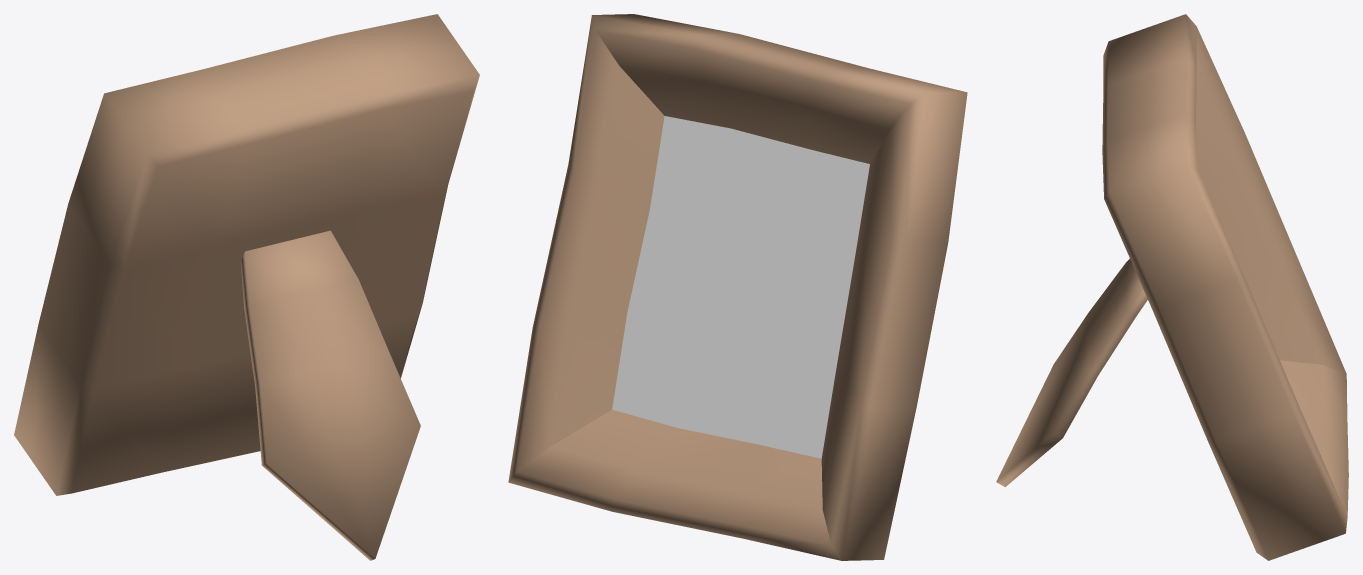
The model's file is props_photo_frame.fbx.
The picture shows the model from 3 angles, left to right: view 1: azimuth 30°, elevation 25°; view 2: azimuth 150°, elevation 25°; view 3: azimuth 270°, elevation 25°; orthographic projection. The views are drawn at different scales.
Visible parts, largest first — view 1: photo; view 2: photo; view 3: photo.
Boxes of the visible parts, left/top/right/bottom form: photo: left=14, top=14, right=479, bottom=560; photo: left=508, top=14, right=967, bottom=560; photo: left=996, top=14, right=1348, bottom=560.
Bounding box in the file's own units: 0.5761 × 0.5608 × 0.7092.
